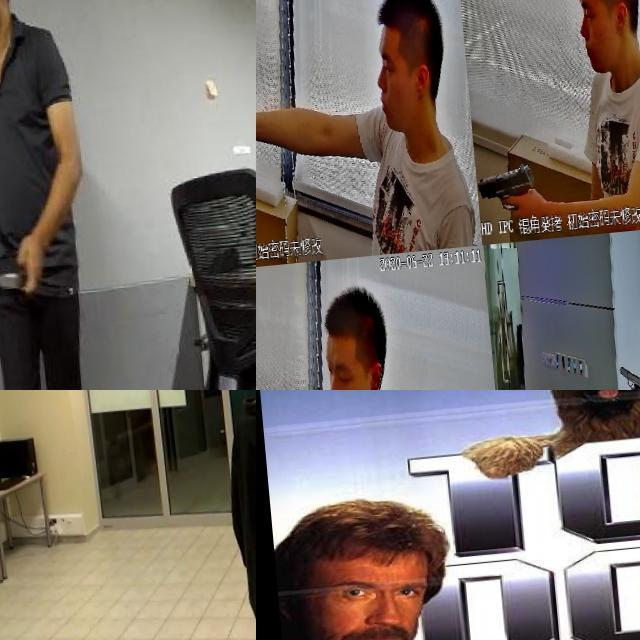-: (0, 258, 17, 300)
gun-knife-thesis - v11 Yolov5 augmented: (470, 168, 535, 251), (256, 122, 288, 232), (605, 368, 635, 390)
